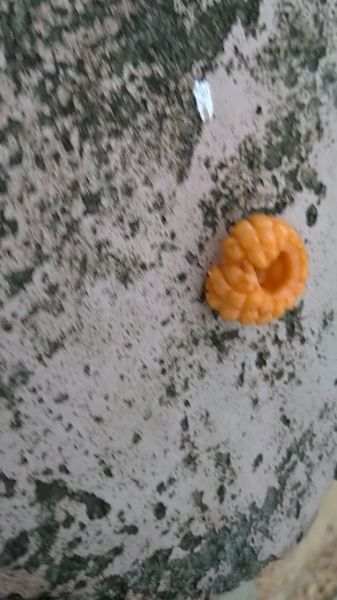eggs: (199, 207, 317, 328)
